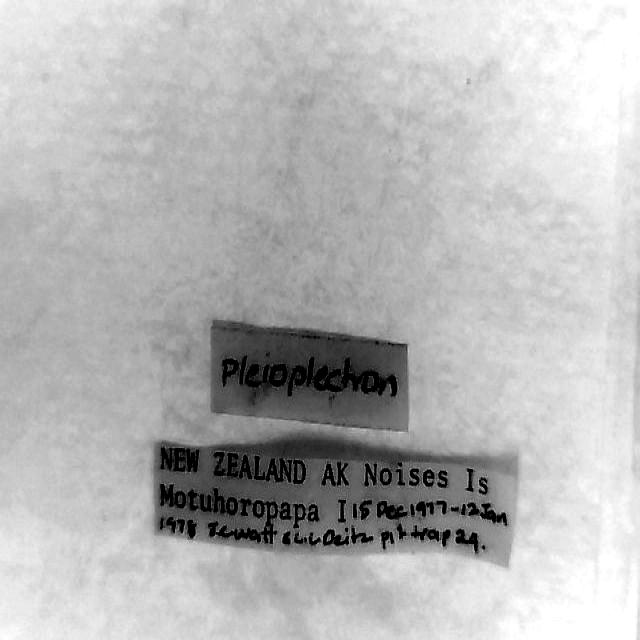hand_label: (211, 323, 408, 429)
mixed_label: (155, 445, 515, 564)
